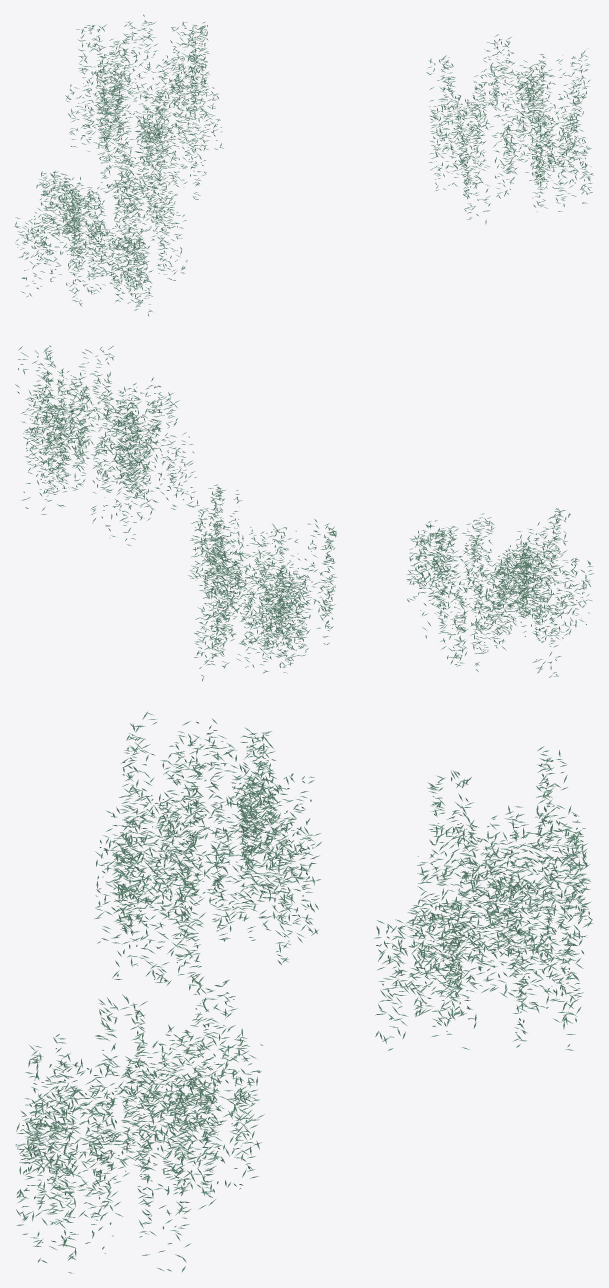
File: xiyuan-vegetation-12-near.glb
3 renders of one model, top to bottom at view 1: azimuth 30°, elevation 25°; view 2: azimuth 150°, elevation 25°; view 3: azimuth 270°, elevation 25°, orthographic. The views are drawn at different scales.
Visible parts, largest first — view 1: vegetation willow leaves.001; view 2: vegetation willow leaves.001; view 3: vegetation willow leaves.001.
Part boxes in pixels (left/top/right/bottom): vegetation willow leaves.001: left=14, top=14, right=593, bottom=316; vegetation willow leaves.001: left=15, top=345, right=593, bottom=681; vegetation willow leaves.001: left=15, top=712, right=593, bottom=1273.
Size of the model in its own units: 28.81 by 8.9 by 16.31.
